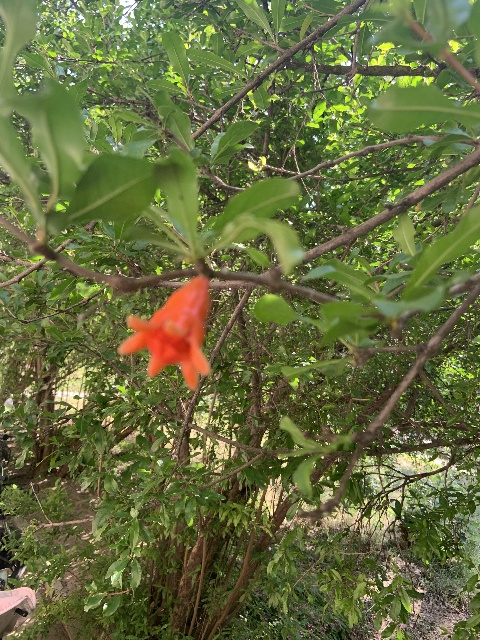flower: (118, 275, 212, 390)
